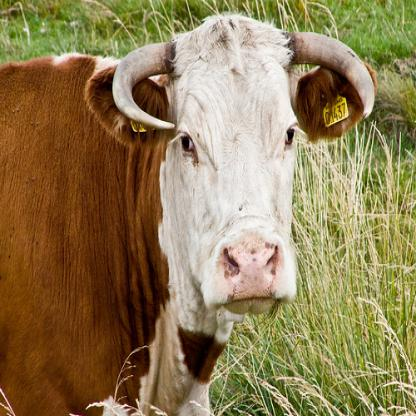cow: (0, 14, 373, 415)
